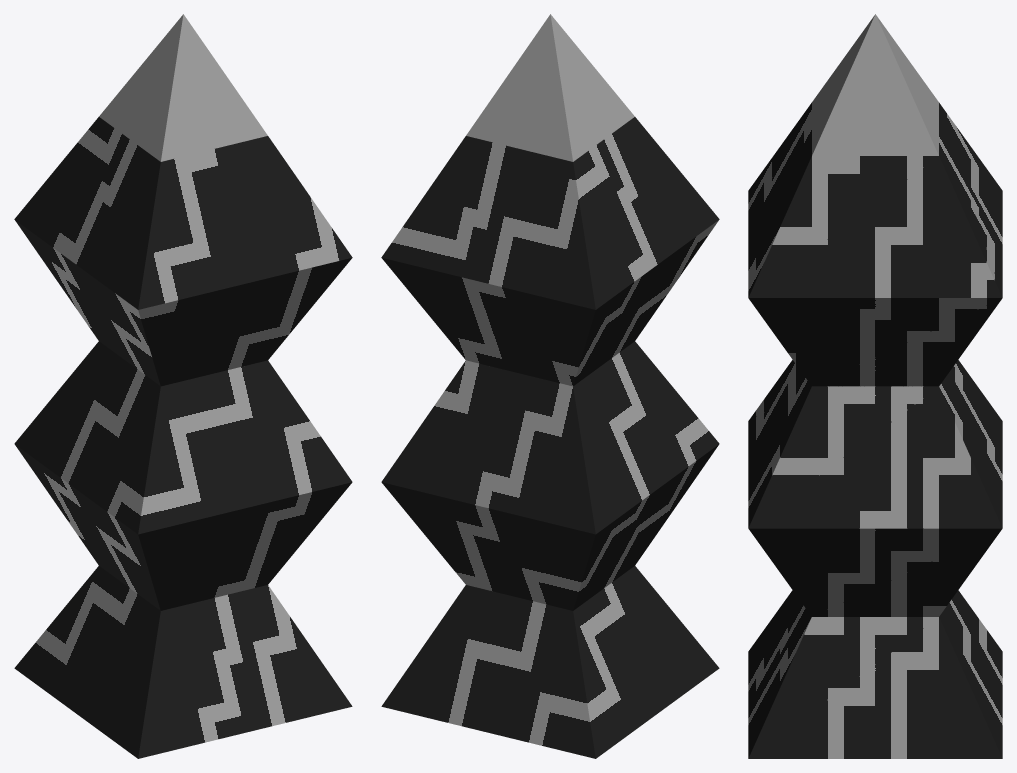
The model's file is obelisk.gltf.
3 renders of one model, left to right at view 1: azimuth 30°, elevation 25°; view 2: azimuth 150°, elevation 25°; view 3: azimuth 270°, elevation 25°, orthographic. The views are drawn at different scales.
Parts seen in each view (by area): view 1: obelisk; view 2: obelisk; view 3: obelisk.
Boxes of the visible parts, left/top/right/bottom form: obelisk: left=14, top=14, right=352, bottom=758; obelisk: left=381, top=14, right=719, bottom=758; obelisk: left=748, top=14, right=1002, bottom=758.
Bounding box in the file's own units: 0.25 × 0.75 × 0.25.
1 material, 1 textured.
